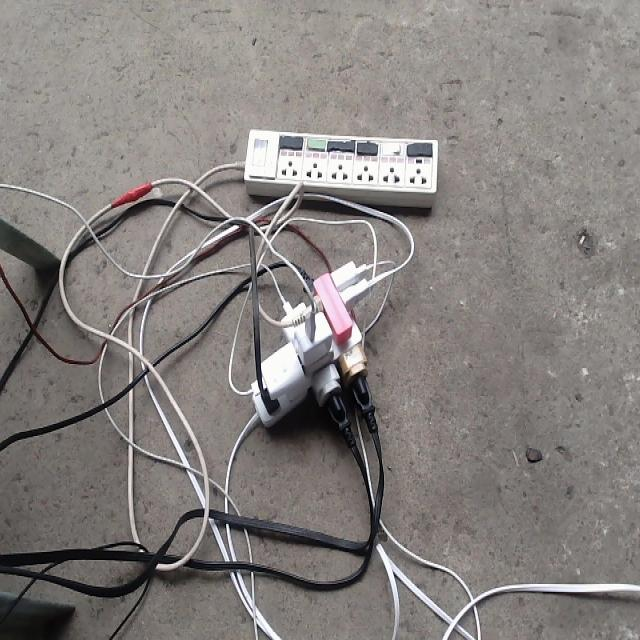-: (244, 258, 378, 446)
